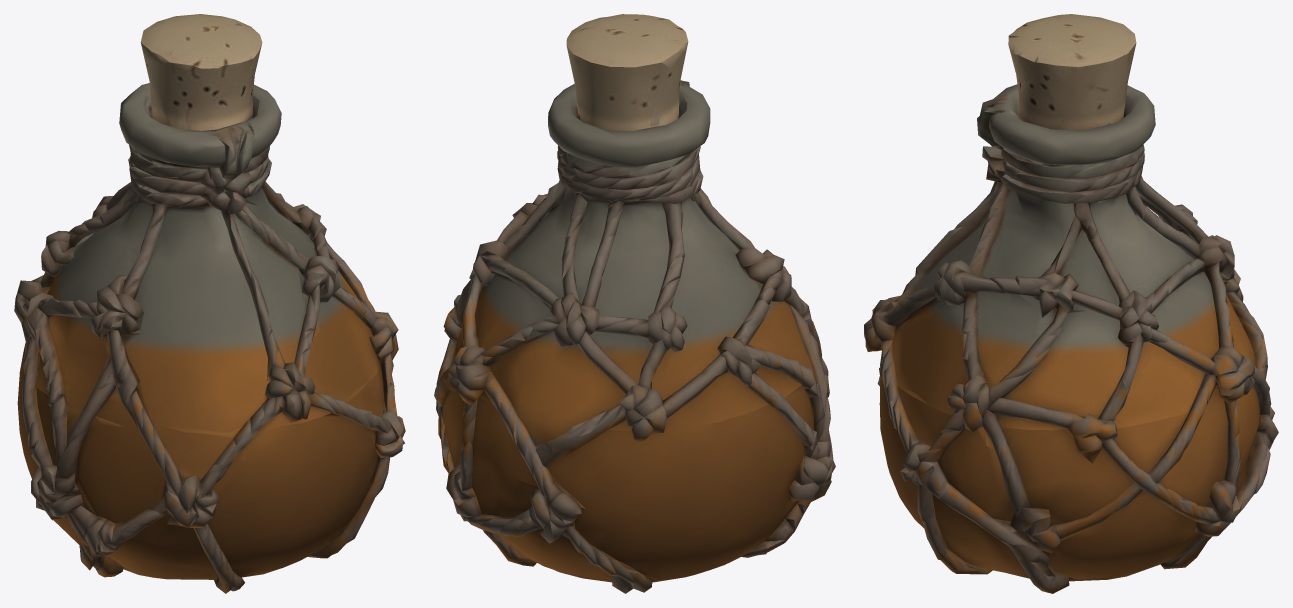
File: oil-flask.glb
The picture shows the model from 3 angles, left to right: view 1: azimuth 30°, elevation 25°; view 2: azimuth 150°, elevation 25°; view 3: azimuth 270°, elevation 25°; orthographic projection.
Parts seen in each view (by area): view 1: Corded oil flask; view 2: Corded oil flask; view 3: Corded oil flask.
Part boxes in pixels (x1,y1,x2,y2): Corded oil flask: [14, 14, 405, 593]; Corded oil flask: [434, 14, 835, 593]; Corded oil flask: [864, 14, 1278, 593].
Bounding box in the file's own units: 0.192 × 0.26 × 0.192.
Materials: 1 (1 with a texture image).
